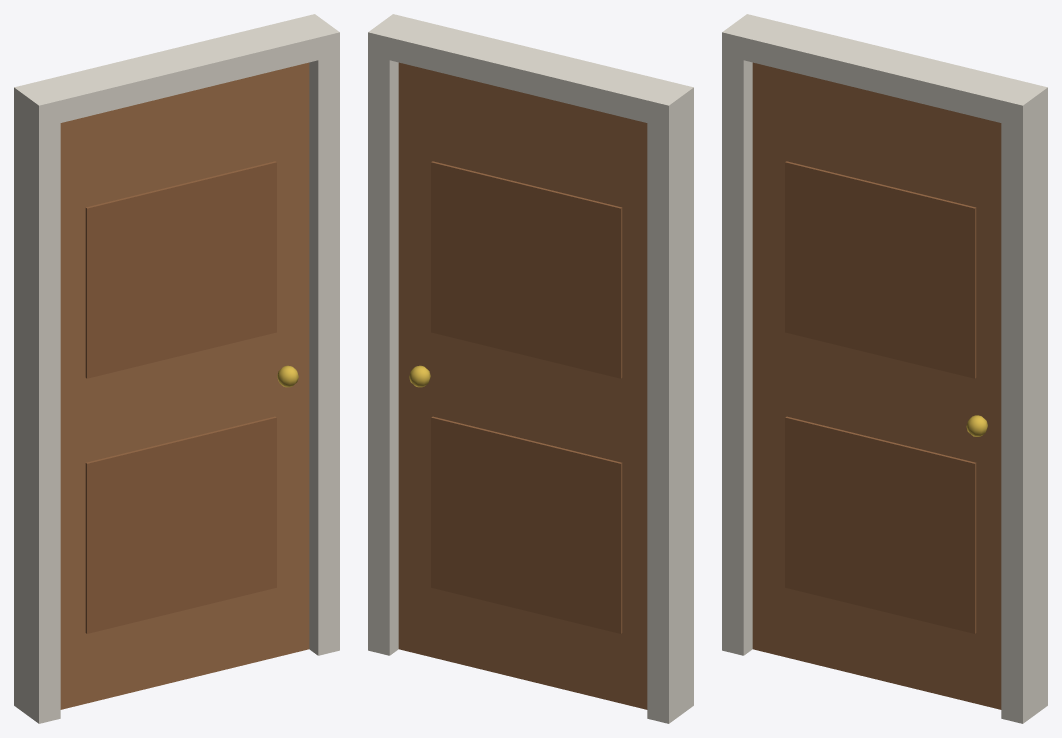
Rendered from door.glb.
3 renders of one model, left to right at view 1: azimuth 30°, elevation 25°; view 2: azimuth 150°, elevation 25°; view 3: azimuth 330°, elevation 25°, orthographic.
Parts seen in each view (by area): view 1: door, main; view 2: door, main; view 3: door, main.
Part boxes in pixels (x1=…): door: x1=60, y1=62, x2=309, y2=709; main: x1=14, y1=14, x2=339, y2=723; door: x1=398, y1=62, x2=647, y2=709; main: x1=368, y1=14, x2=693, y2=723; door: x1=752, y1=62, x2=1001, y2=709; main: x1=722, y1=14, x2=1047, y2=723.
Size of the model in its own units: 1.11 by 2.18 by 0.1866.
